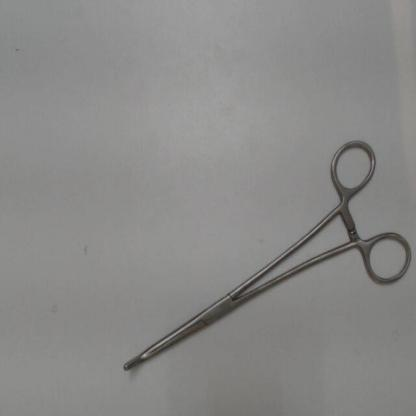Lahey Forceps: (116, 126, 413, 383)
